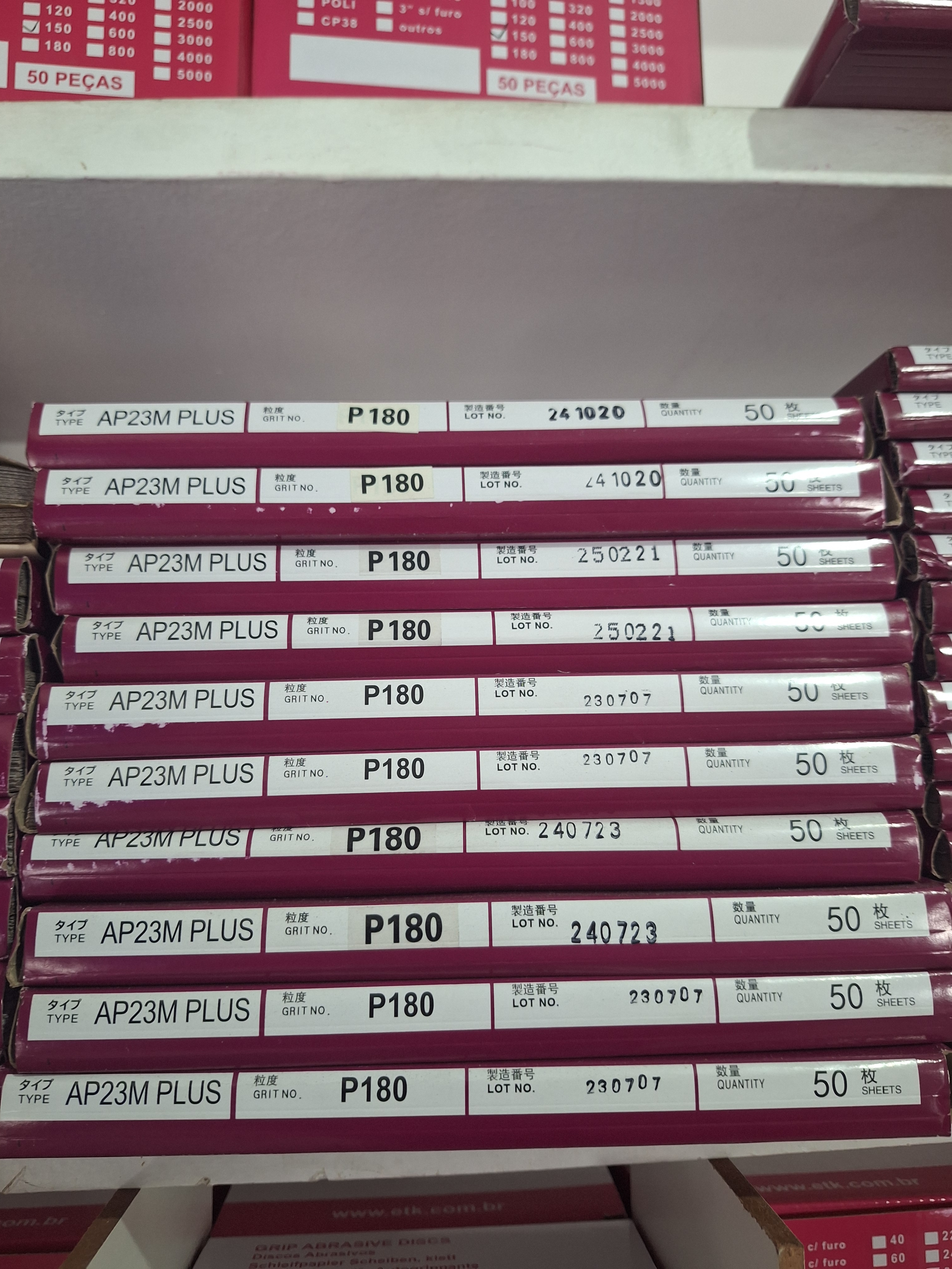grao: (262, 978, 493, 1036), (234, 1065, 467, 1119), (266, 745, 479, 803), (265, 899, 492, 949), (268, 674, 478, 724), (256, 459, 464, 506), (278, 537, 478, 583), (288, 606, 493, 650), (250, 825, 464, 867), (246, 398, 452, 438)
objects: (0, 323, 952, 1174)
